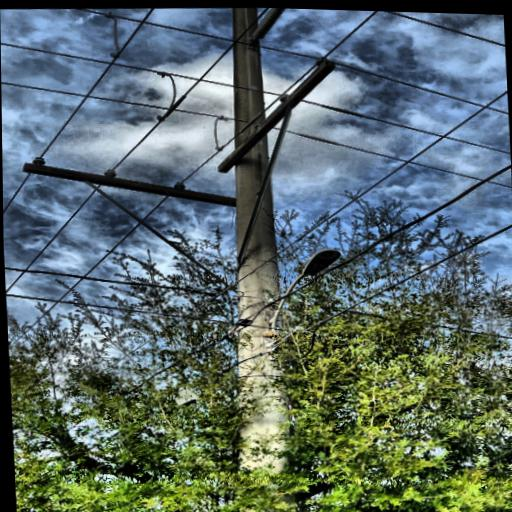pole: (206, 6, 322, 512)
street light: (254, 242, 352, 359)
vegetation_encroachment: (134, 250, 376, 512)
